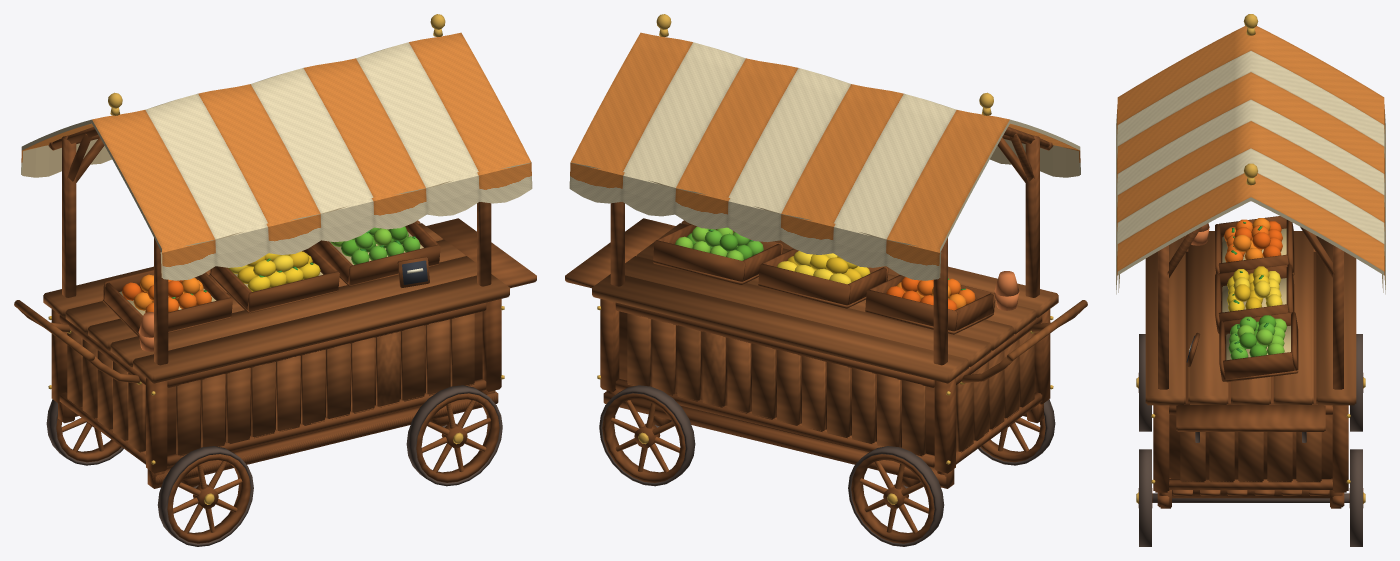
The model's file is market-cart.glb.
The picture shows the model from 3 angles, left to right: view 1: azimuth 30°, elevation 25°; view 2: azimuth 150°, elevation 25°; view 3: azimuth 270°, elevation 25°; orthographic projection. The views are drawn at different scales.
Parts seen in each view (by area): view 1: Market citrus striped awning cart; view 2: Market citrus striped awning cart; view 3: Market citrus striped awning cart.
Boxes of the visible parts, left/top/right/bottom form: Market citrus striped awning cart: left=14, top=14, right=536, bottom=546; Market citrus striped awning cart: left=565, top=14, right=1087, bottom=546; Market citrus striped awning cart: left=1116, top=14, right=1385, bottom=546.
Size of the model in its own units: 2.3 by 2.05 by 1.27.
5 materials, 2 textured.
